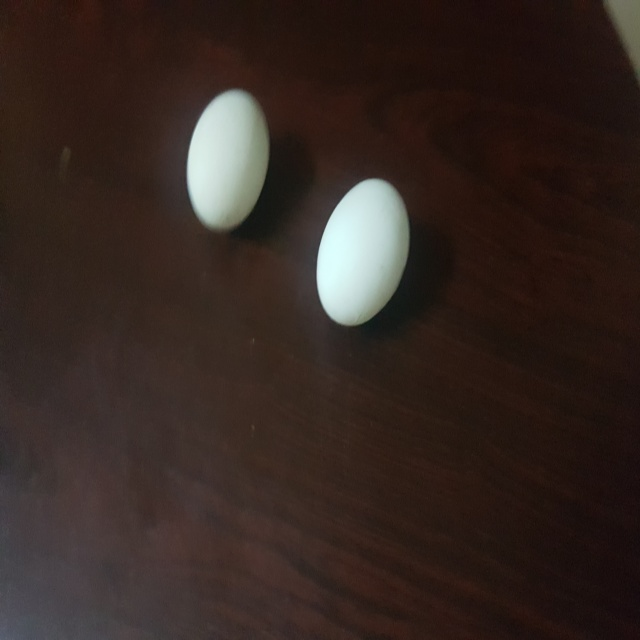eggs: (315, 171, 412, 334), (180, 85, 277, 230)
